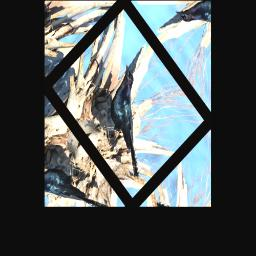Crow: (82, 64, 177, 182)
